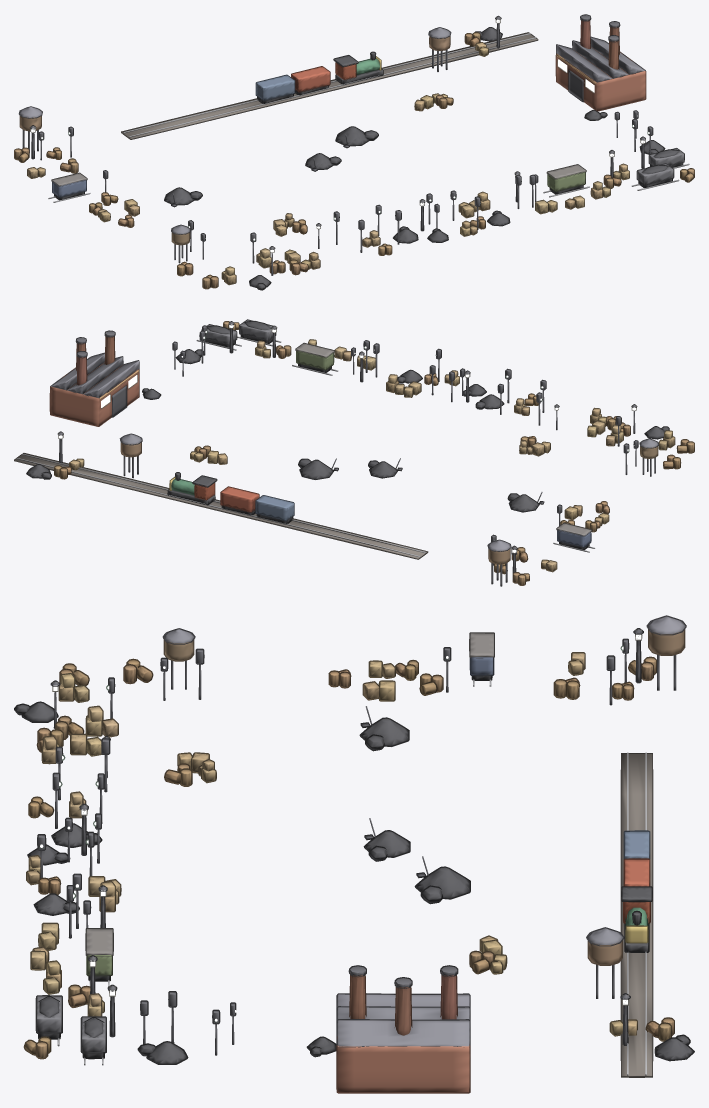
Rendered from railyard.glb.
3 views of the same model, one above another, from view 1: azimuth 30°, elevation 25°; view 2: azimuth 150°, elevation 25°; view 3: azimuth 270°, elevation 25° (orthographic). The views are drawn at different scales.
Visible parts, largest first — view 1: Baked_matte, Baked_matte_Outline, Baked_metal, Baked_satin, Baked_metal_Outline, Baked_satin_Outline; view 2: Baked_matte, Baked_matte_Outline, Baked_metal, Baked_satin, Baked_metal_Outline, Baked_satin_Outline; view 3: Baked_matte, Baked_matte_Outline, Baked_satin, Baked_metal, Baked_metal_Outline, Baked_satin_Outline.
Boxes of the visible parts, x1,y1,x2,y2 form: Baked_matte: (14, 20, 694, 288); Baked_matte_Outline: (14, 20, 694, 289); Baked_metal: (22, 15, 689, 275); Baked_satin: (164, 27, 678, 289); Baked_metal_Outline: (29, 14, 653, 249); Baked_satin_Outline: (164, 27, 679, 290); Baked_matte: (14, 320, 694, 585); Baked_matte_Outline: (14, 319, 694, 585); Baked_metal: (16, 322, 655, 586); Baked_satin: (27, 321, 668, 511); Baked_metal_Outline: (57, 321, 638, 572); Baked_satin_Outline: (26, 321, 669, 512); Baked_matte: (25, 616, 685, 1092); Baked_matte_Outline: (23, 615, 686, 1093); Baked_satin: (15, 702, 693, 1063); Baked_metal: (38, 629, 676, 1075); Baked_metal_Outline: (37, 628, 648, 1044); Baked_satin_Outline: (14, 701, 694, 1064).
Size of the model in its own units: 40.62 by 4.69 by 26.84.
